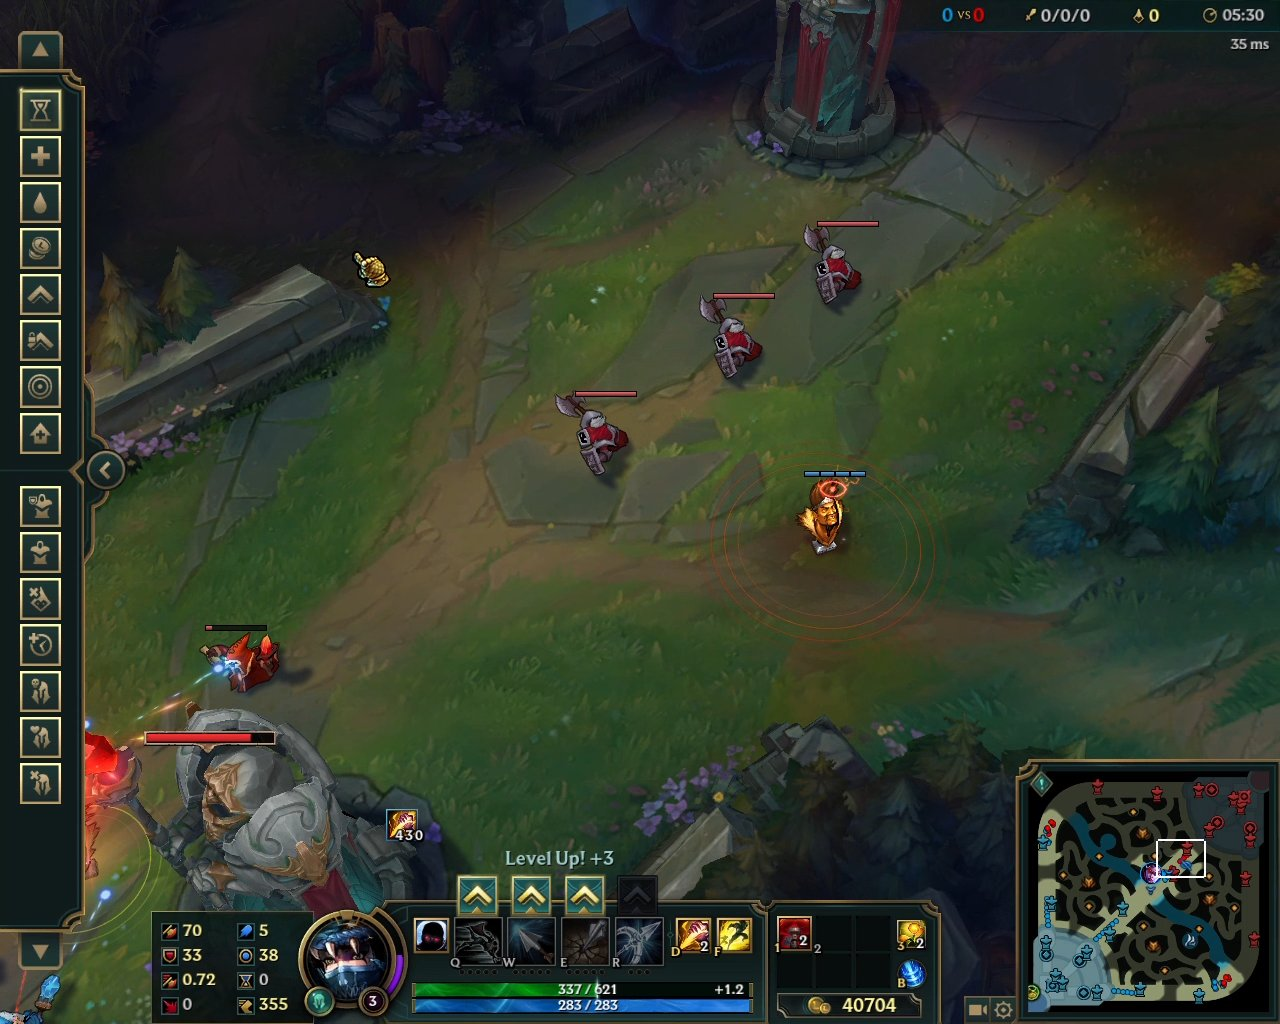EnemyMinion: (549, 389, 638, 479), (689, 290, 775, 383), (798, 220, 879, 305), (199, 622, 282, 698)
Tower: (86, 703, 457, 905)
